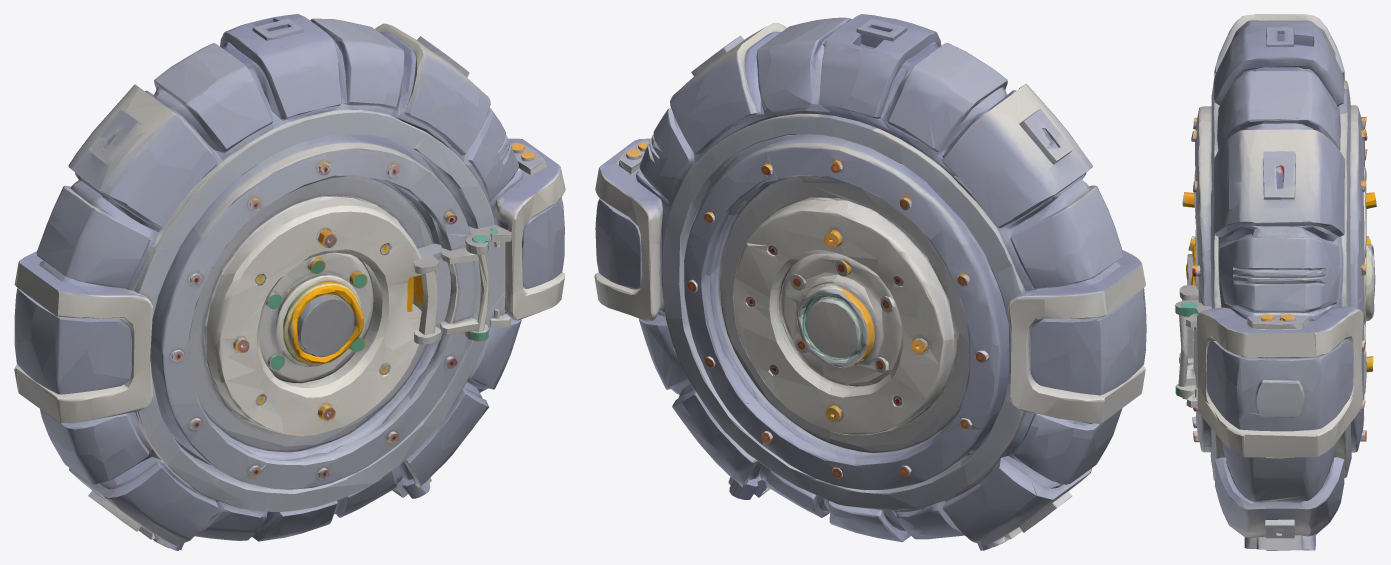
The model's file is airlock-hatch.gltf.
The picture shows the model from 3 angles, left to right: view 1: azimuth 30°, elevation 25°; view 2: azimuth 150°, elevation 25°; view 3: azimuth 270°, elevation 25°; orthographic projection. The views are drawn at different scales.
Bounding box in the file's own units: 1.9 × 1.74 × 0.6806.
1 material, 1 textured.
